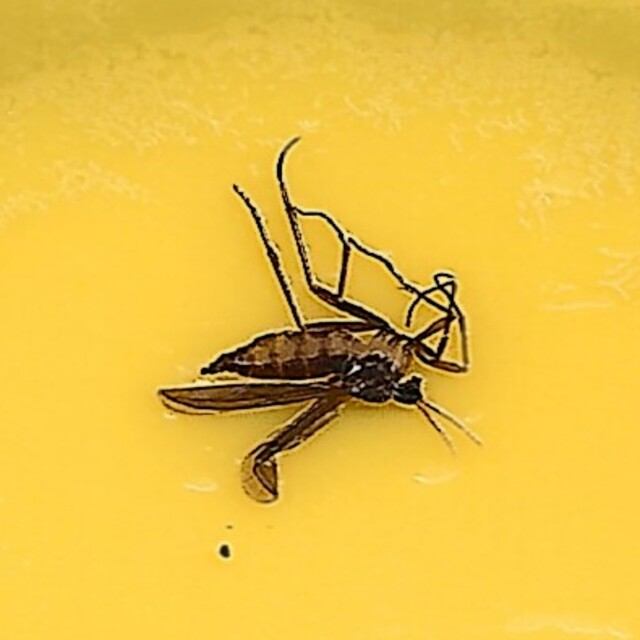Nematocera: (162, 138, 478, 502)
